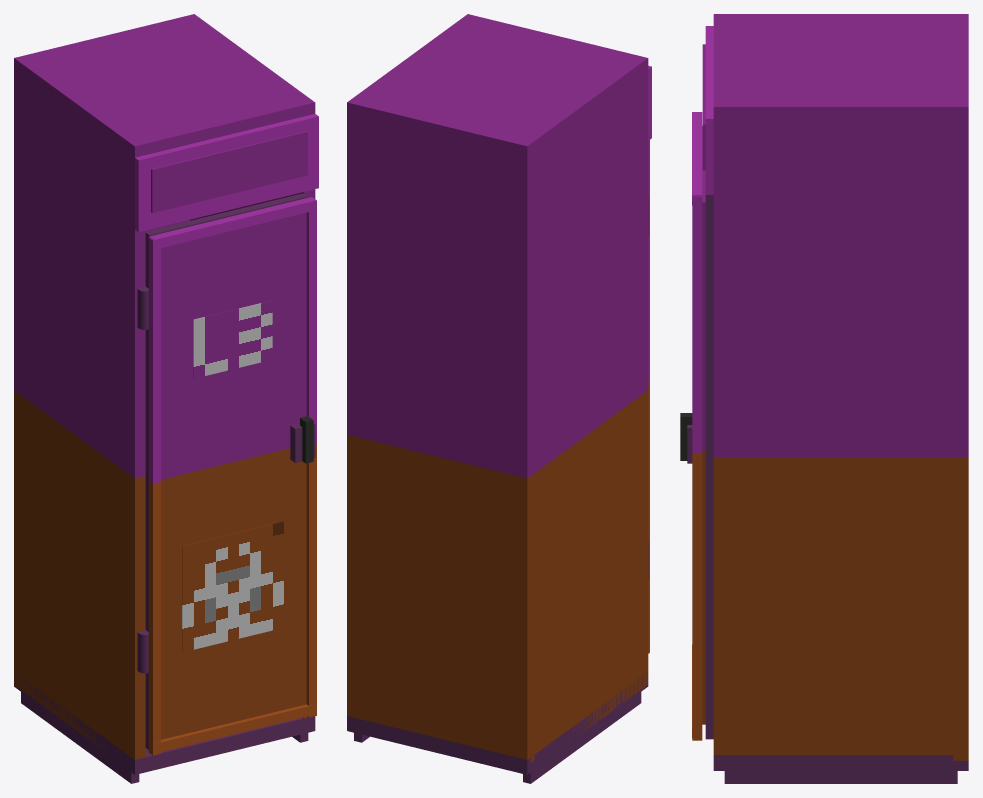
The model's file is CMU3DInheritedClosetsBioScientistCloud.glb.
3 views of the same model, side by side, from view 1: azimuth 30°, elevation 25°; view 2: azimuth 150°, elevation 25°; view 3: azimuth 270°, elevation 25° (orthographic). The views are drawn at different scales.
Visible parts, largest first — view 1: full-depth side wall -1 upper purple, full-depth side wall -1 lower orange, purple upper door, orange lower door, top structural cap, original biohazard symbol, header inset field, header front band, original L3 hazard-level lettering, bottom pan, rear structural panel upper purple, lower orange door molding -1 (+11 smaller); view 2: rear structural panel upper purple, rear structural panel lower orange, full-depth side wall -1 upper purple, full-depth side wall -1 lower orange, top structural cap, bottom pan, full-depth side wall 1 lower orange, full-depth side wall 1 upper purple, grounded cabinet foot -1, lower orange door molding -1; view 3: full-depth side wall 1 upper purple, full-depth side wall 1 lower orange, top structural cap, rear structural panel upper purple, door shadow gasket, rear structural panel lower orange, bottom pan, lower orange door molding 1, grounded cabinet foot 1, upper purple door molding 1, header front band, full-depth side wall -1 upper purple (+4 smaller).
Boxes of the visible parts, x1,y1,x2,y2 form: full-depth side wall -1 upper purple: (14, 56, 146, 478); full-depth side wall -1 lower orange: (14, 390, 146, 759); purple upper door: (161, 212, 306, 479); orange lower door: (161, 448, 306, 739); top structural cap: (14, 14, 314, 161); original biohazard symbol: (182, 521, 283, 652); header inset field: (151, 131, 307, 213); header front band: (135, 114, 318, 232); original L3 hazard-level lettering: (193, 300, 272, 378); bottom pan: (14, 673, 315, 774); rear structural panel upper purple: (14, 14, 200, 394); lower orange door molding -1: (148, 481, 160, 755); rear structural panel upper purple: (347, 97, 534, 478); rear structural panel lower orange: (347, 435, 534, 763); full-depth side wall -1 upper purple: (516, 55, 648, 477); full-depth side wall -1 lower orange: (516, 390, 648, 754); top structural cap: (347, 14, 648, 161); bottom pan: (347, 672, 648, 774); full-depth side wall 1 lower orange: (347, 435, 358, 731); full-depth side wall 1 upper purple: (347, 14, 478, 437); grounded cabinet foot -1: (523, 692, 641, 783); lower orange door molding -1: (648, 381, 649, 653); full-depth side wall 1 upper purple: (713, 101, 968, 457); full-depth side wall 1 lower orange: (713, 458, 968, 754); top structural cap: (713, 14, 968, 122); rear structural panel upper purple: (953, 14, 968, 457); door shadow gasket: (705, 194, 713, 739); rear structural panel lower orange: (953, 458, 968, 760); bottom pan: (713, 755, 968, 770); lower orange door molding 1: (692, 453, 702, 740); grounded cabinet foot 1: (724, 771, 957, 783); upper purple door molding 1: (692, 196, 702, 453); header front band: (705, 26, 713, 194); full-depth side wall -1 upper purple: (713, 14, 968, 19).
Size of the model in its own units: 0.5 by 1.7 by 0.656.
Materials: 8 (2 with a texture image).
